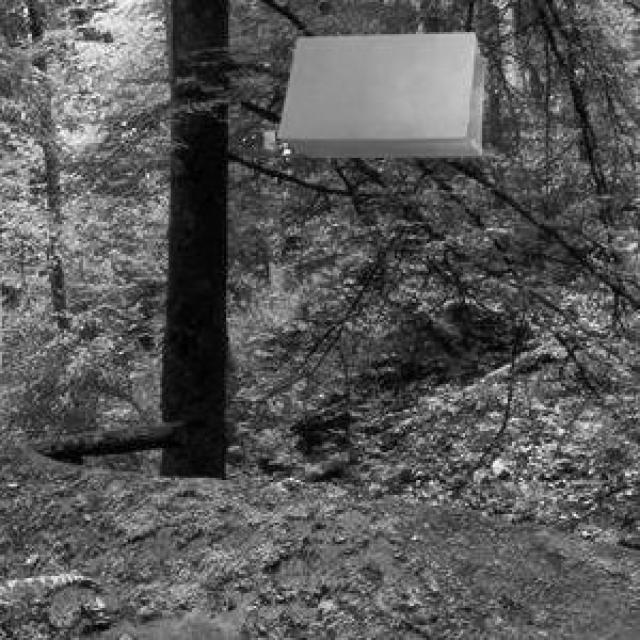paper: (275, 30, 482, 154)
